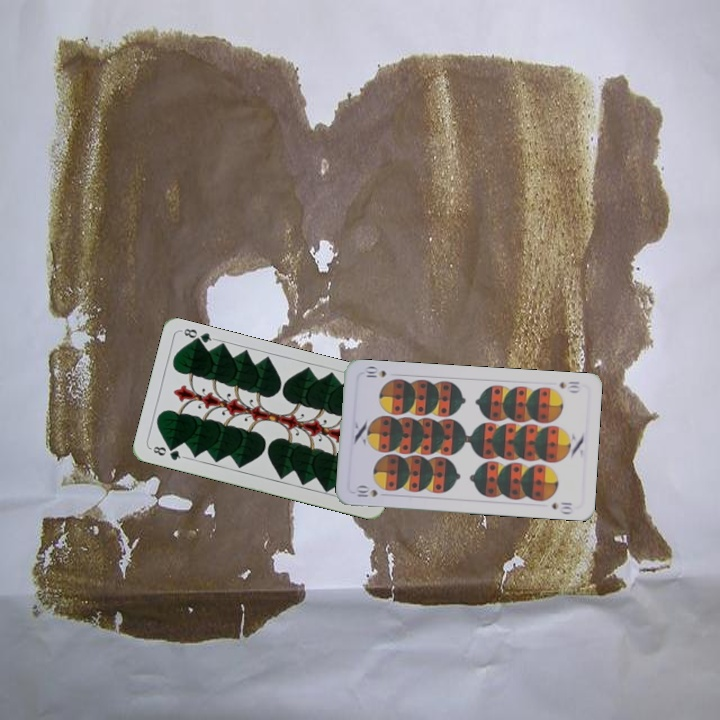G8: (147, 442, 187, 463)
S10: (555, 377, 582, 395), (353, 483, 380, 499)
